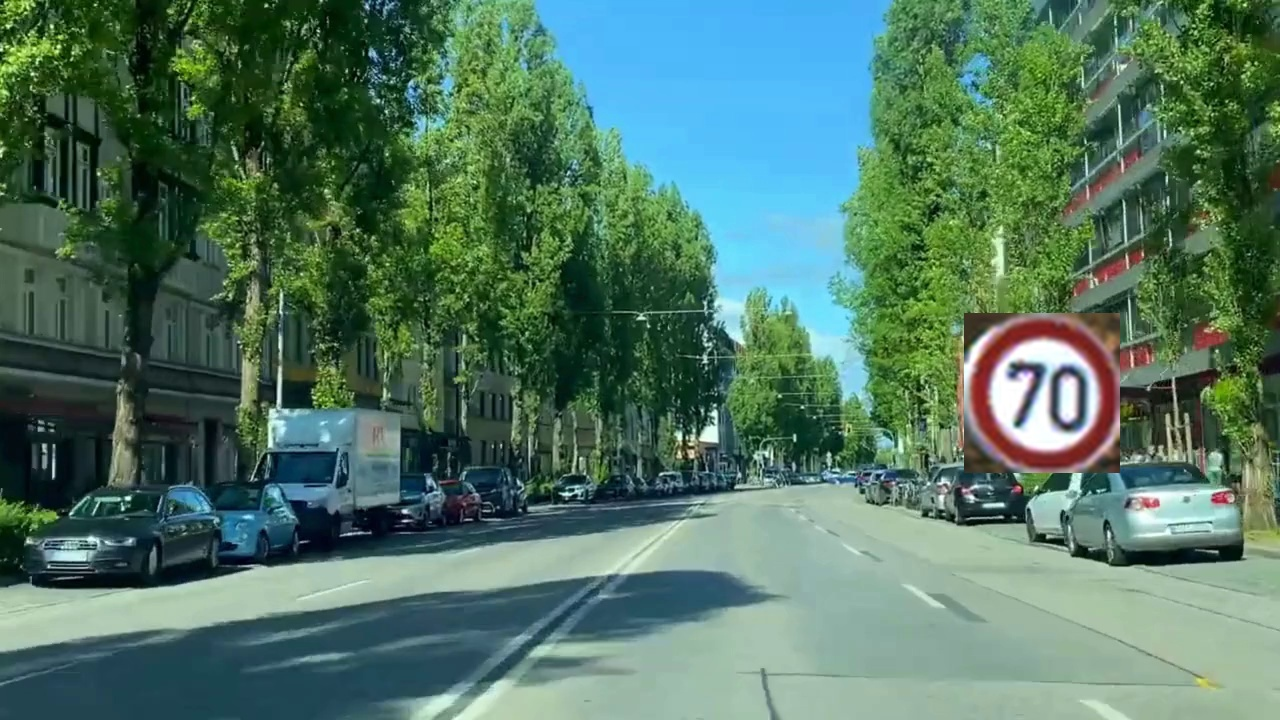Speed 70: (964, 313, 1120, 473)
